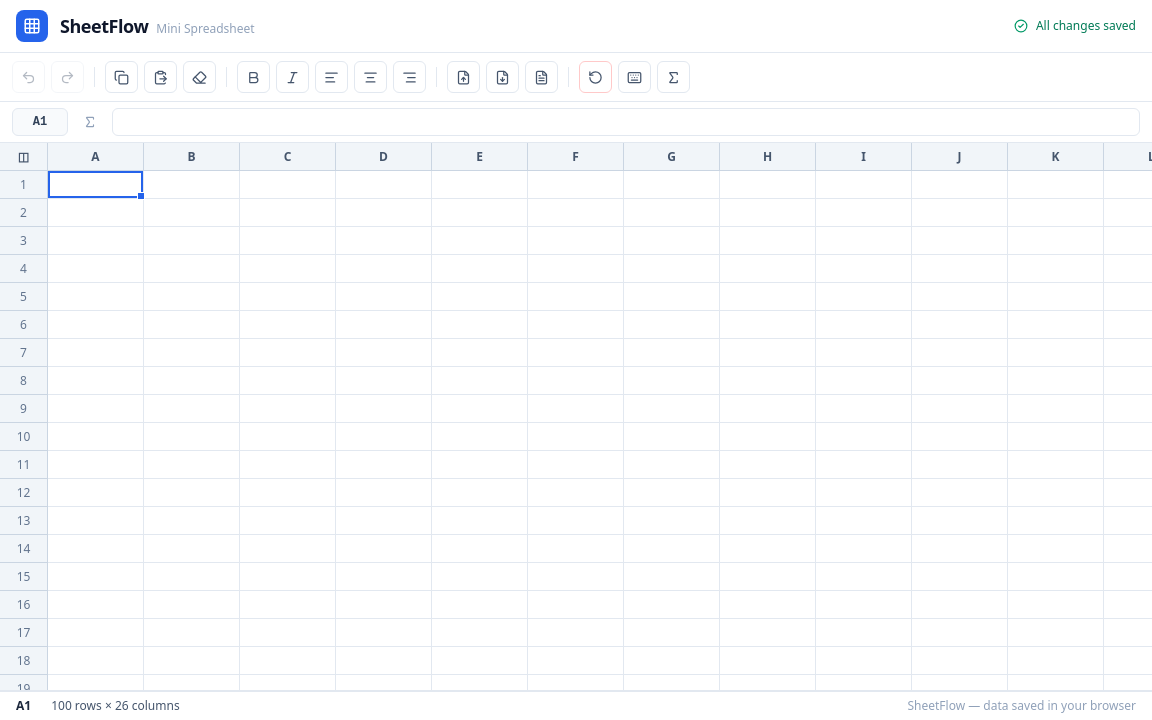
Test: formula guide is read-only › closes when the backdrop is clicked
Click the button named "Formulas" at x=674, y=77, box [657, 61, 690, 93]
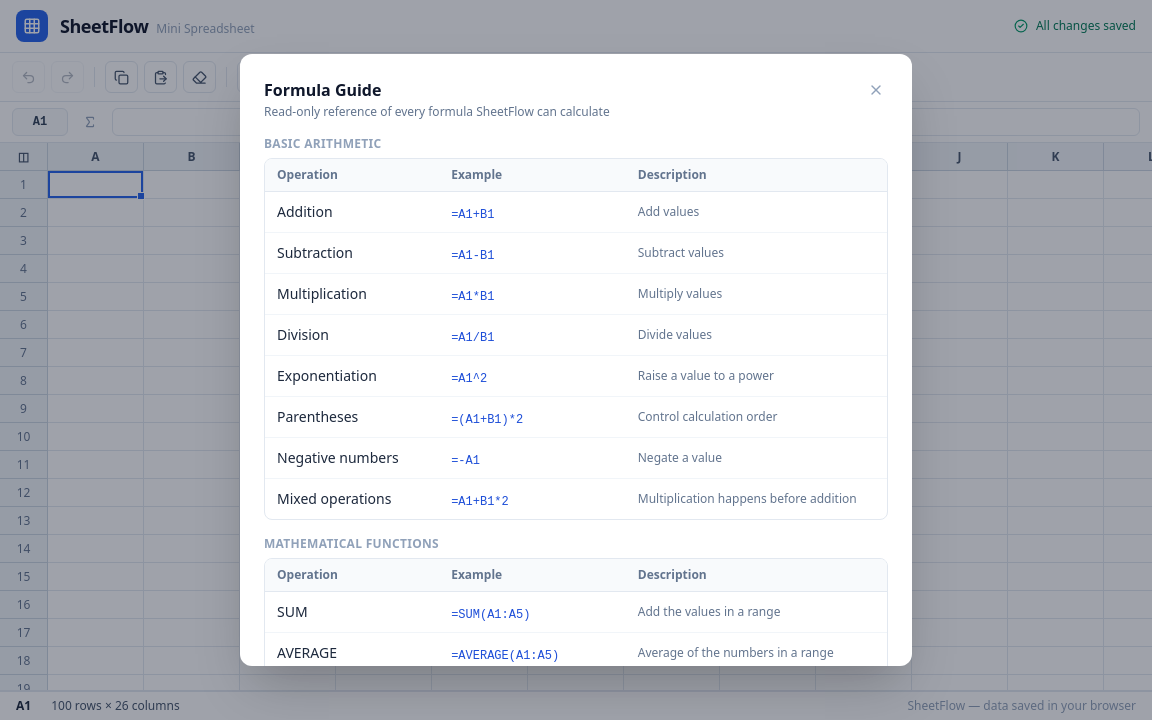
Press the mouse on the dialog with test id "formula-helper-dialog" at x=576, y=360, box [0, 0, 1151, 719]
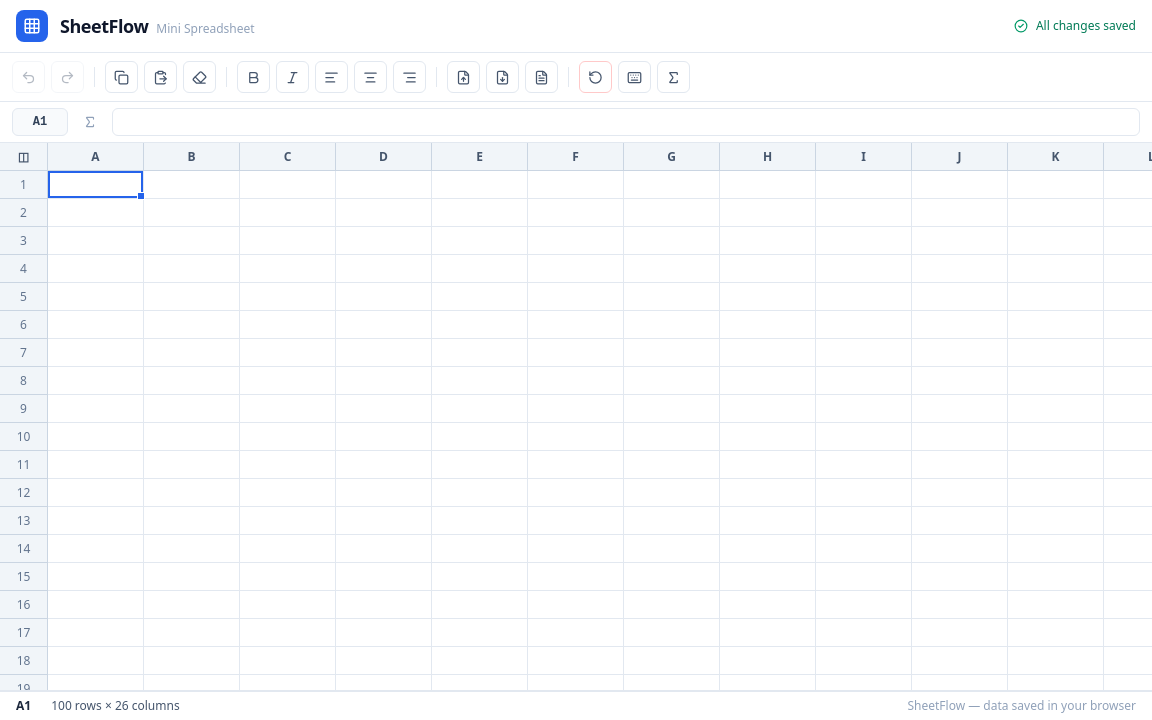
Check: the dialog with test id "formula-helper-dialog" is gone
